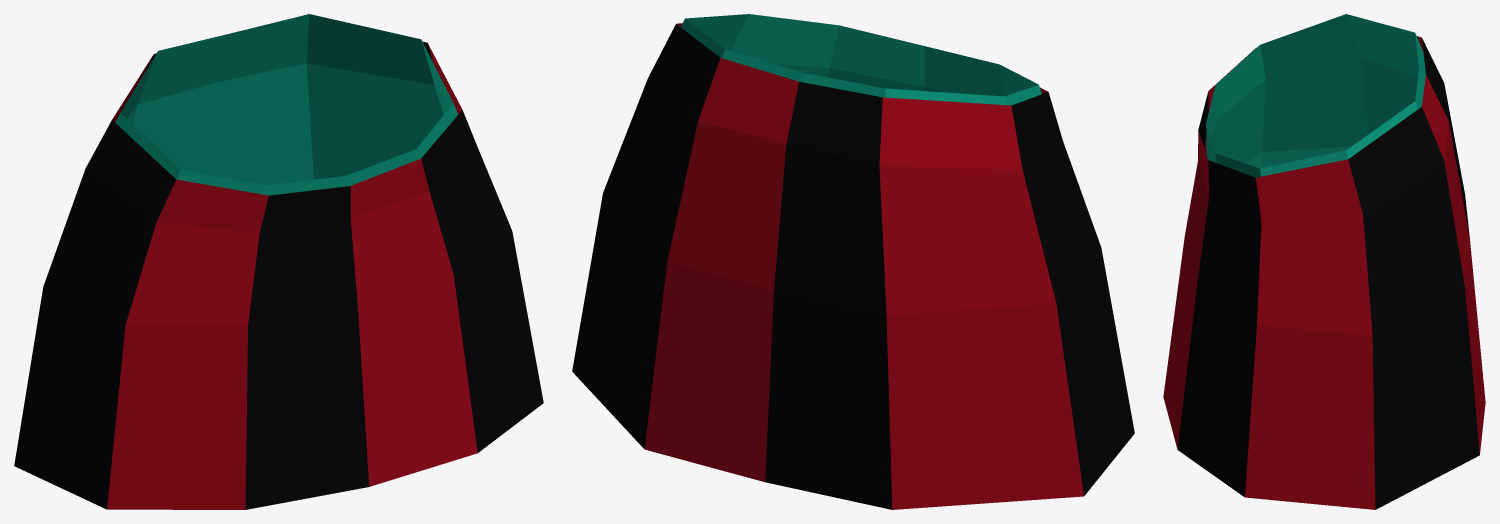
File: SpaSkir.fbx
3 views of the same model, side by side, from view 1: azimuth 30°, elevation 25°; view 2: azimuth 150°, elevation 25°; view 3: azimuth 270°, elevation 25° (orthographic). The views are drawn at different scales.
Parts seen in each view (by area): view 1: SpaSkir; view 2: SpaSkir; view 3: SpaSkir.
Boxes of the visible parts, x1,y1,x2,y2 form: SpaSkir: [14, 14, 543, 509]; SpaSkir: [572, 14, 1134, 509]; SpaSkir: [1163, 14, 1485, 509].
Size of the model in its own units: 54.59 by 39.12 by 34.03.
